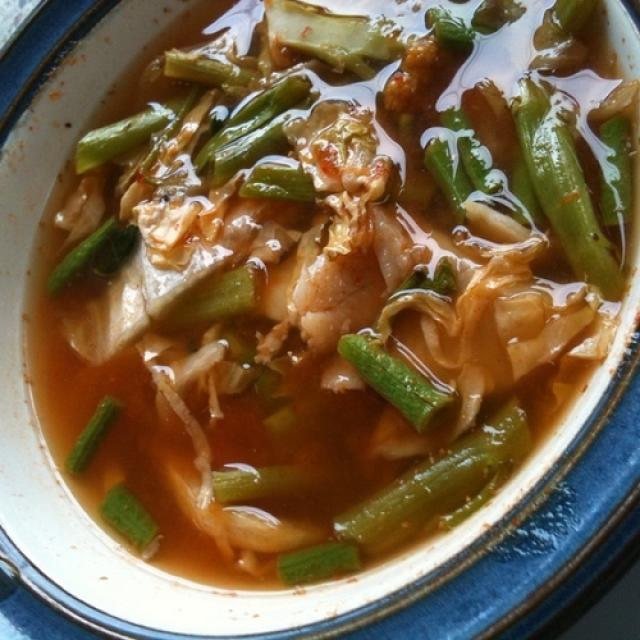汤锅炖物: (8, 5, 631, 613)
